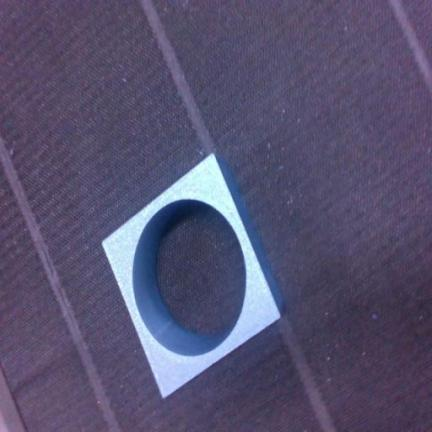square: (102, 154, 279, 397), (103, 155, 280, 397)
